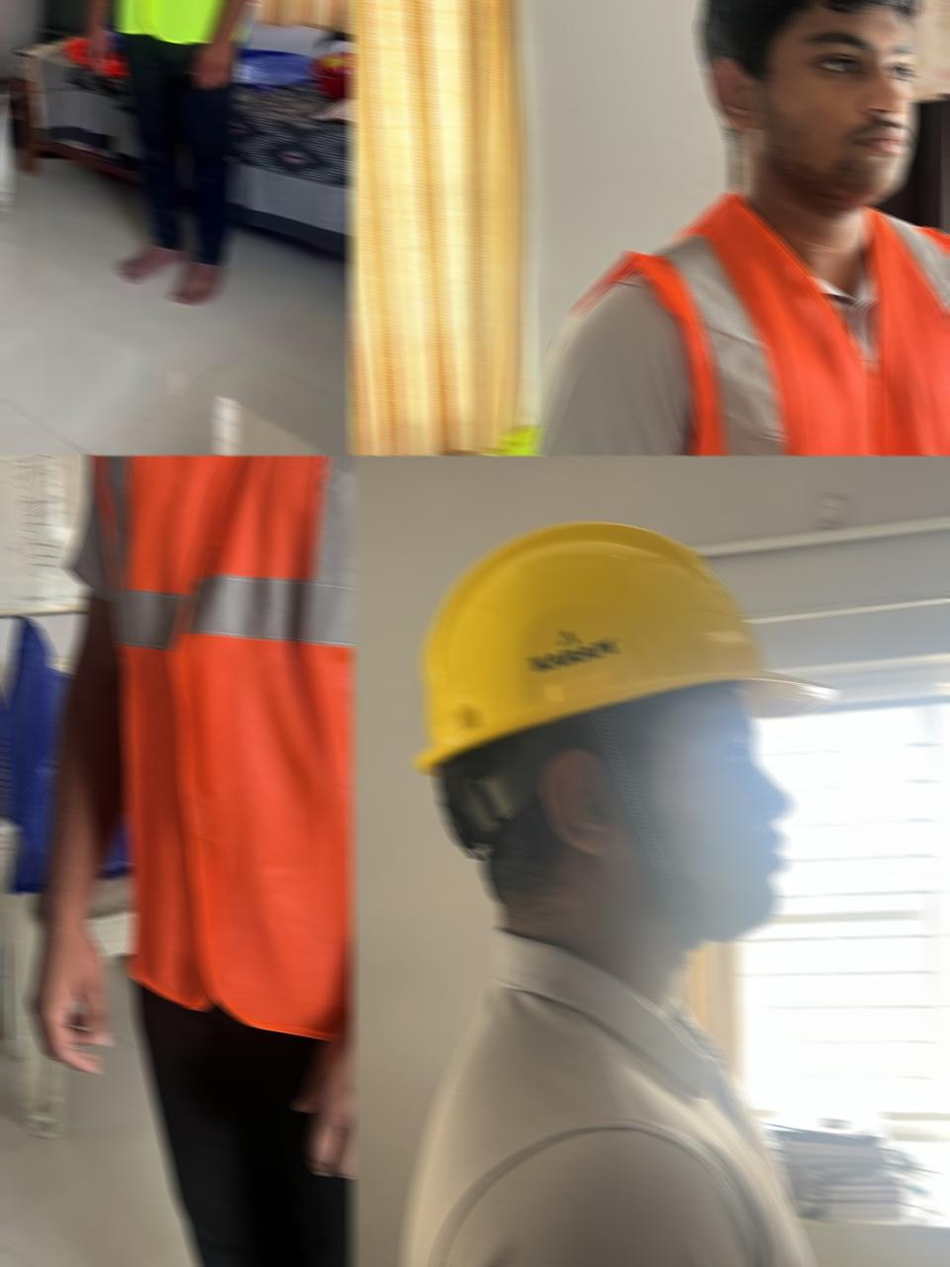Helmet: (416, 521, 836, 946)
No_Helmet: (698, 0, 925, 218)
No_Vest: (402, 931, 859, 1267)
Person: (402, 521, 859, 1267), (27, 455, 353, 1267), (513, 0, 950, 455), (81, 0, 281, 307)
Vest: (91, 455, 353, 1037), (561, 190, 950, 455)
